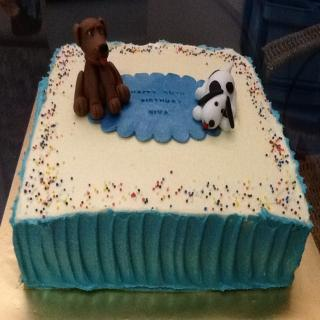Cake: (7, 18, 314, 292)
